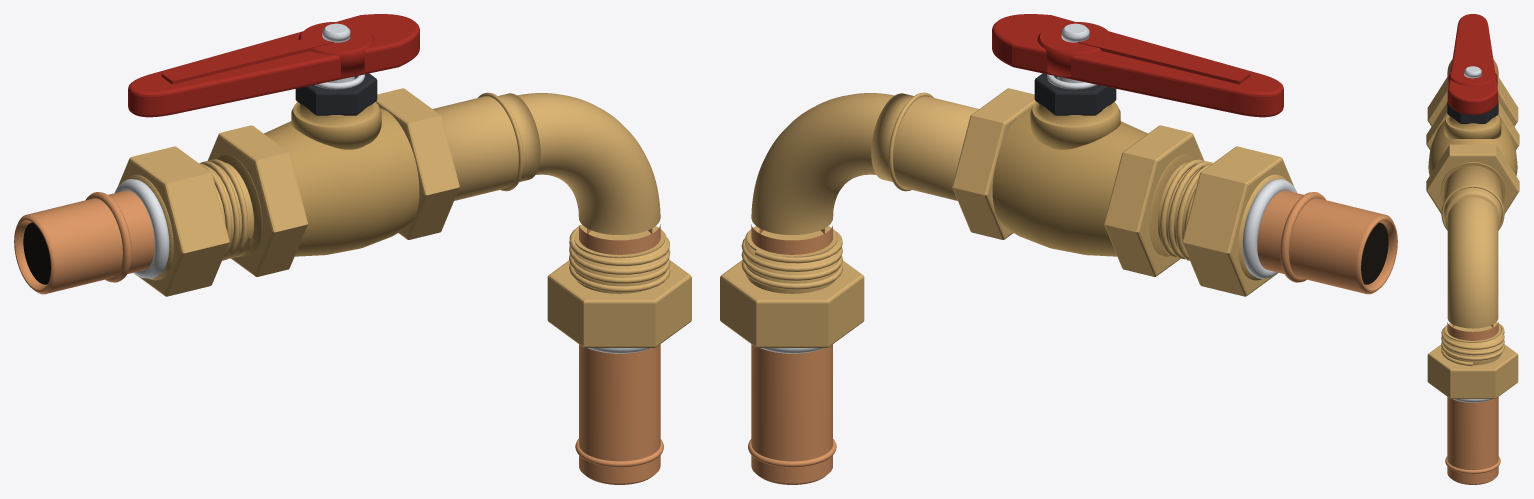
File: valve-elbow.glb
3 views of the same model, side by side, from view 1: azimuth 30°, elevation 25°; view 2: azimuth 150°, elevation 25°; view 3: azimuth 270°, elevation 25° (orthographic). The views are drawn at different scales.
Parts seen in each view (by area): view 1: valve_body_shell, elbow_bend, outlet_pipe_tube, handle_lever, inlet_pipe_tube, outlet_nut, inlet_nut, elbow_inlet_collar, valve_body_flats_inlet, valve_body_flats_outlet, outlet_thread, valve_stem_boss (+10 smaller); view 2: valve_body_shell, elbow_bend, outlet_pipe_tube, handle_lever, inlet_pipe_tube, outlet_nut, inlet_nut, elbow_inlet_collar, valve_body_flats_inlet, valve_body_flats_outlet, valve_stem_boss, outlet_thread (+10 smaller); view 3: elbow_bend, outlet_pipe_tube, outlet_nut, handle_lever, valve_body_flats_outlet, elbow_inlet_collar, valve_body_shell, outlet_thread, inlet_nut, valve_stem_boss, elbow_shoulder_out, valve_body_flats_inlet (+8 smaller).
Boxes of the visible parts, x1,y1,x2,y2 form: valve_body_shell: (217,108,419,256); elbow_bend: (517,93,660,234); outlet_pipe_tube: (579,224,660,484); handle_lever: (128,14,419,117); inlet_pipe_tube: (14,190,154,294); outlet_nut: (547,260,691,347); inlet_nut: (118,146,229,296); elbow_inlet_collar: (433,93,540,200); valve_body_flats_inlet: (207,125,307,276); valve_body_flats_outlet: (375,88,459,239); outlet_thread: (569,225,670,292); valve_stem_boss: (291,102,381,149); valve_body_shell: (992,108,1194,256); elbow_bend: (751,93,894,234); outlet_pipe_tube: (751,224,832,484); handle_lever: (992,14,1283,117); inlet_pipe_tube: (1257,190,1397,294); outlet_nut: (720,260,864,347); inlet_nut: (1182,146,1293,296); elbow_inlet_collar: (871,93,978,200); valve_body_flats_inlet: (1104,125,1204,276); valve_body_flats_outlet: (952,88,1036,239); valve_stem_boss: (1030,102,1120,149); outlet_thread: (741,231,842,289); elbow_bend: (1447,197,1498,328); outlet_pipe_tube: (1447,322,1498,484); outlet_nut: (1427,344,1518,398); handle_lever: (1447,14,1498,114); valve_body_flats_outlet: (1426,144,1519,213); elbow_inlet_collar: (1443,165,1502,229); valve_body_shell: (1428,121,1517,203); outlet_thread: (1441,322,1504,366); inlet_nut: (1427,72,1518,126); valve_stem_boss: (1444,115,1501,138); elbow_shoulder_out: (1443,325,1502,365); valve_body_flats_inlet: (1426,102,1519,150).
Bounding box in the file's own units: 0.2534 × 0.1927 × 0.051.
